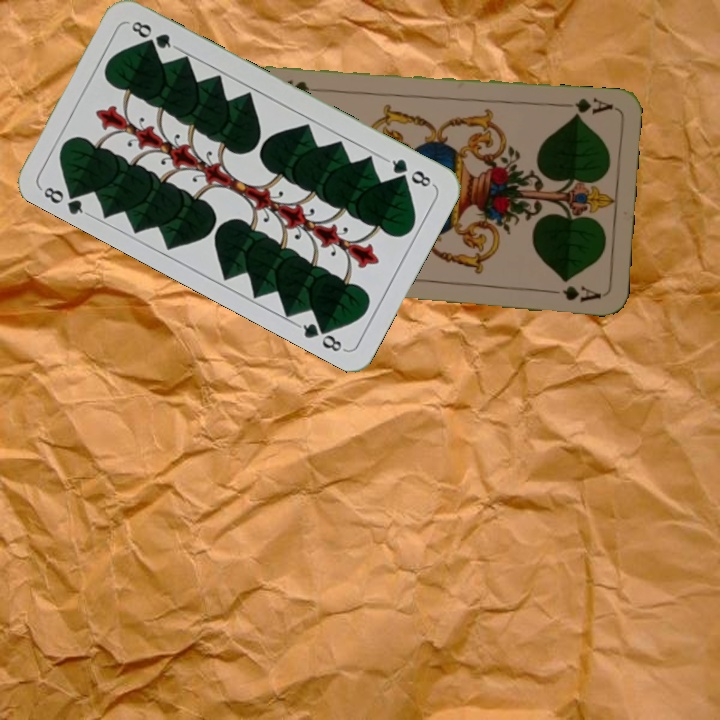G8: (36, 182, 91, 219), (382, 154, 436, 190)
GA: (557, 94, 616, 120)
